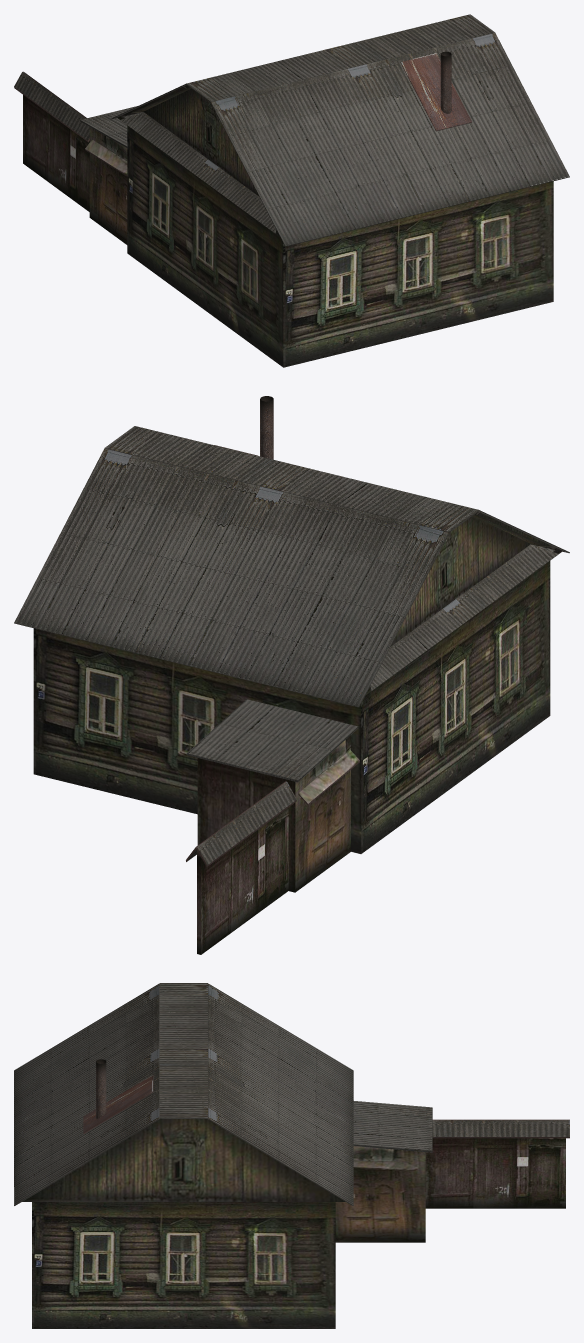
The model's file is sibir_domik4.FBX.
3 renders of one model, top to bottom at view 1: azimuth 30°, elevation 25°; view 2: azimuth 150°, elevation 25°; view 3: azimuth 270°, elevation 25°, orthographic. The views are drawn at different scales.
Parts seen in each view (by area): view 1: sibir_domik4; view 2: sibir_domik4; view 3: sibir_domik4.
Part boxes in pixels (x1=…): sibir_domik4: x1=14, y1=14, x2=569, y2=367; sibir_domik4: x1=14, y1=396, x2=569, y2=954; sibir_domik4: x1=14, y1=983, x2=569, y2=1328.
Bounding box in the file's own units: 844 × 1464 × 677.
